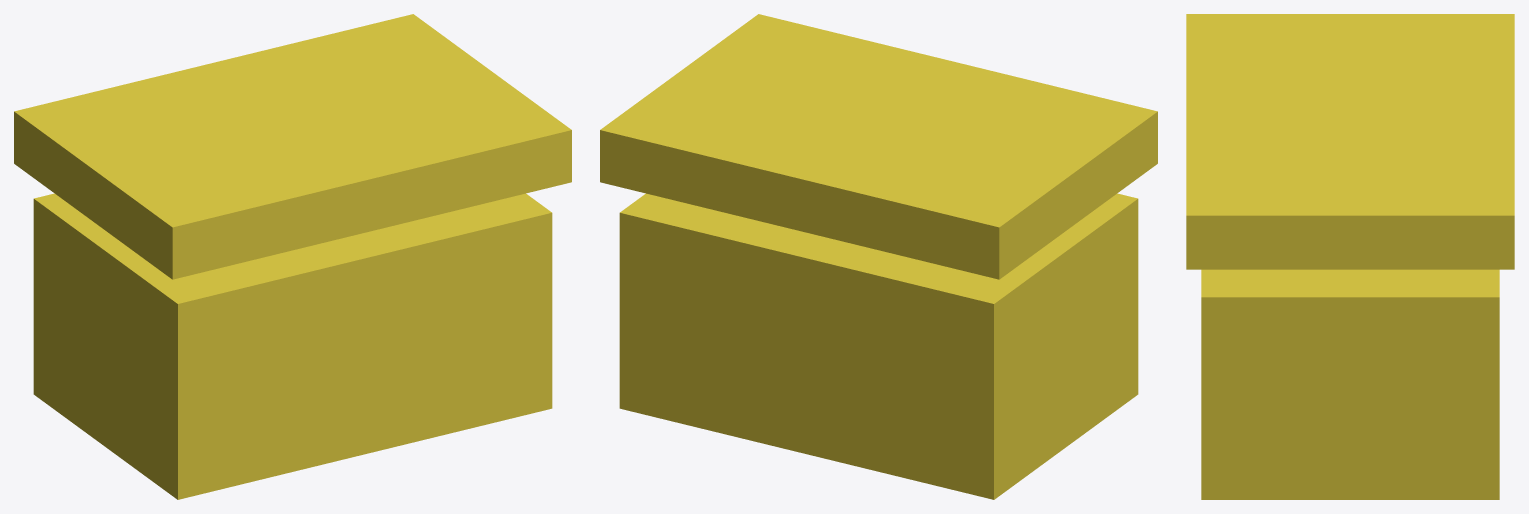
File: P_AmmoBox.fbx
The picture shows the model from 3 angles, left to right: view 1: azimuth 30°, elevation 25°; view 2: azimuth 150°, elevation 25°; view 3: azimuth 270°, elevation 25°; orthographic projection. The views are drawn at different scales.
Visible parts, largest first — view 1: P_AmmoBox; view 2: P_AmmoBox; view 3: P_AmmoBox.
Boxes of the visible parts, bbox=[...] form: P_AmmoBox: bbox=[14, 14, 571, 499]; P_AmmoBox: bbox=[600, 14, 1157, 499]; P_AmmoBox: bbox=[1186, 14, 1514, 499].
Bounding box in the file's own units: 0.32 × 0.215 × 0.22.
